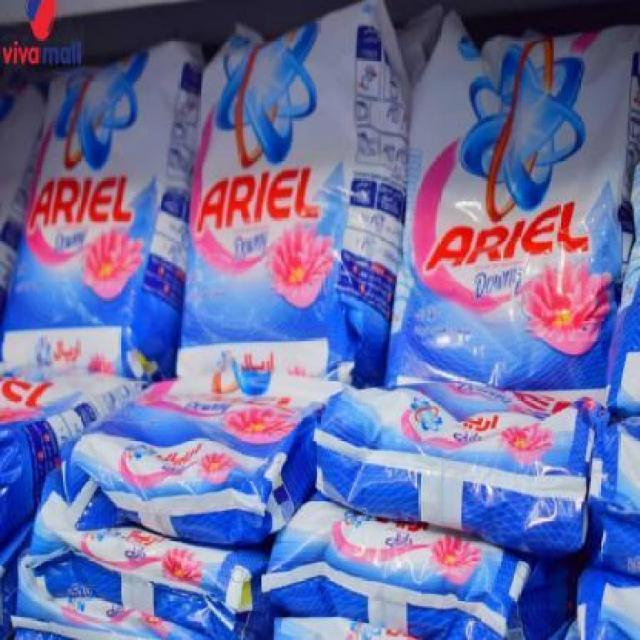Detergent: (394, 13, 623, 399), (193, 25, 395, 383), (18, 34, 184, 378), (323, 332, 589, 524), (88, 366, 300, 538), (262, 501, 522, 639), (36, 490, 239, 618)
